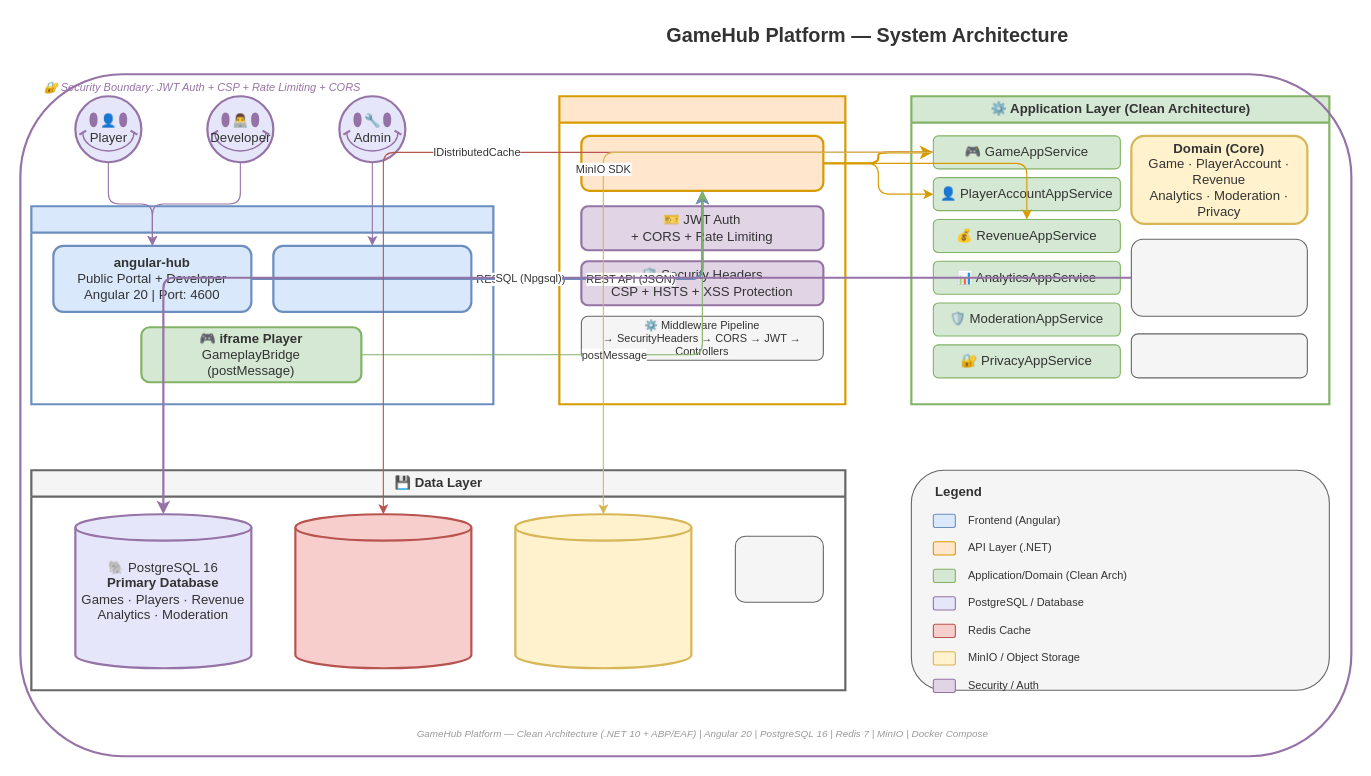
The diagram is 1371 pixels wide and 776 high, and some of its shapes have lost their labels. The box of each missing label's shape, as (x1, y1, x2, y2) in pixels:
angular-admin Admin Panel EAF Angular | Port: 4602: (272, 244, 472, 312)
ASP.NET Core Web.Host Port: 4601 → 80: (580, 134, 824, 191)
DTOs + Contracts Application.Contracts: (1130, 333, 1307, 378)
EF Core Layer DbContext + Migrations Npgsql (PostgreSQL): (1130, 238, 1307, 316)
⚡ Redis 7 Cache Layer Sessions · Game URLs Rate Limiting: (294, 513, 472, 669)
🌐 Frontend Layer: (30, 205, 494, 405)
📊 OpenTelemetry Traces + Metrics → New Relic: (734, 535, 823, 602)
📦 MinIO Object Storage Game Builds (.zip) Screenshots · Assets: (514, 513, 692, 669)
🔐 API Layer: (558, 95, 846, 405)
